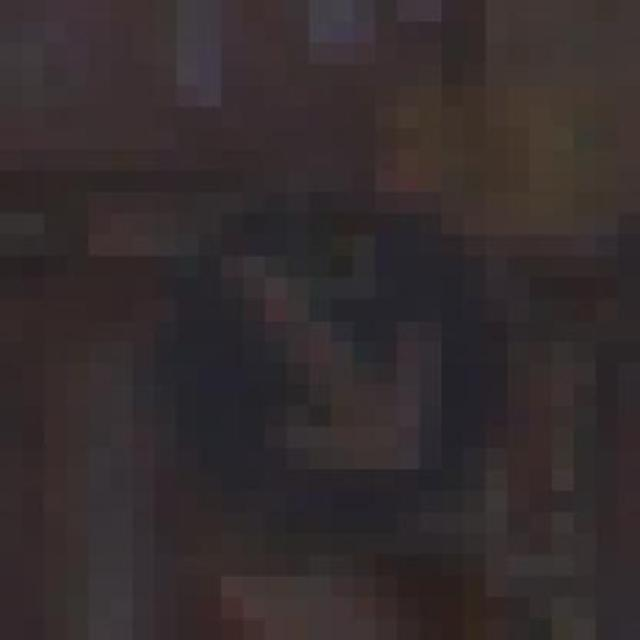Keep-Right: (110, 171, 508, 534)
